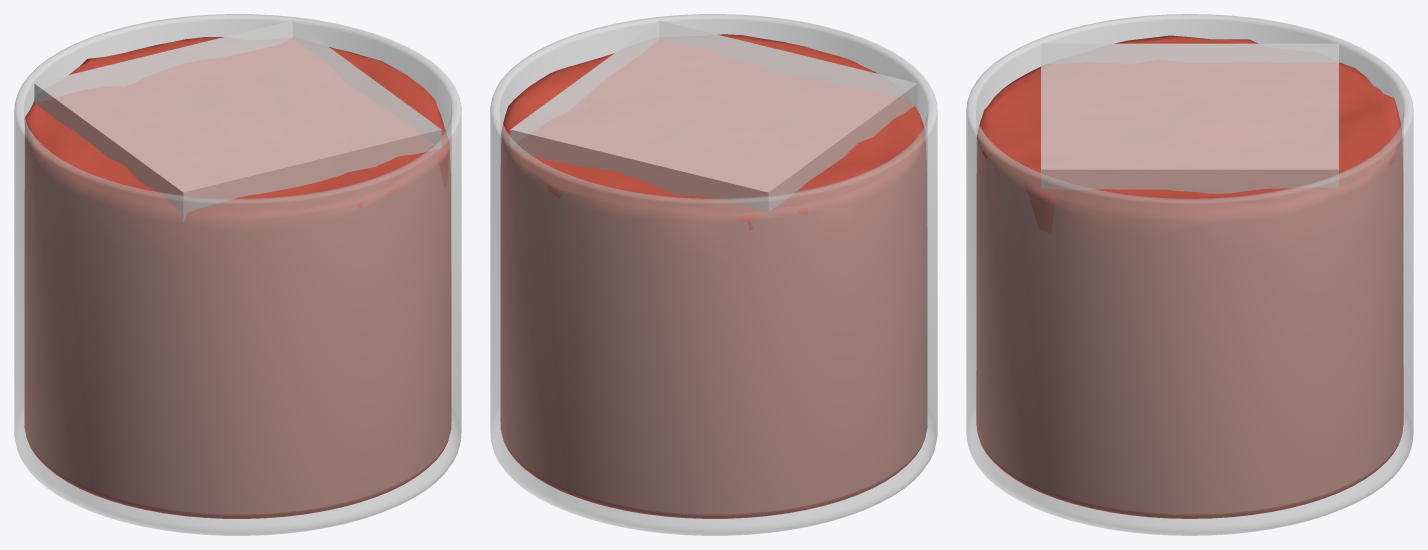
File: negroni.glb
3 views of the same model, side by side, from view 1: azimuth 30°, elevation 25°; view 2: azimuth 150°, elevation 25°; view 3: azimuth 270°, elevation 25° (orthographic).
Visible parts, largest first — view 1: Liquid_OF.002, OF.002, BigCube.002; view 2: Liquid_OF.002, OF.002, BigCube.002; view 3: Liquid_OF.002, OF.002, BigCube.002.
Part boxes in pixels (left/top/right/bottom): Liquid_OF.002: left=24, top=37, right=451, bottom=518; OF.002: left=14, top=14, right=461, bottom=535; BigCube.002: left=34, top=20, right=441, bottom=221; Liquid_OF.002: left=500, top=34, right=927, bottom=518; OF.002: left=490, top=14, right=937, bottom=535; BigCube.002: left=510, top=20, right=917, bottom=211; Liquid_OF.002: left=976, top=35, right=1403, bottom=518; OF.002: left=966, top=14, right=1413, bottom=535; BigCube.002: left=1041, top=43, right=1338, bottom=193.
Size of the model in its own units: 0.1219 by 0.102 by 0.1219.
